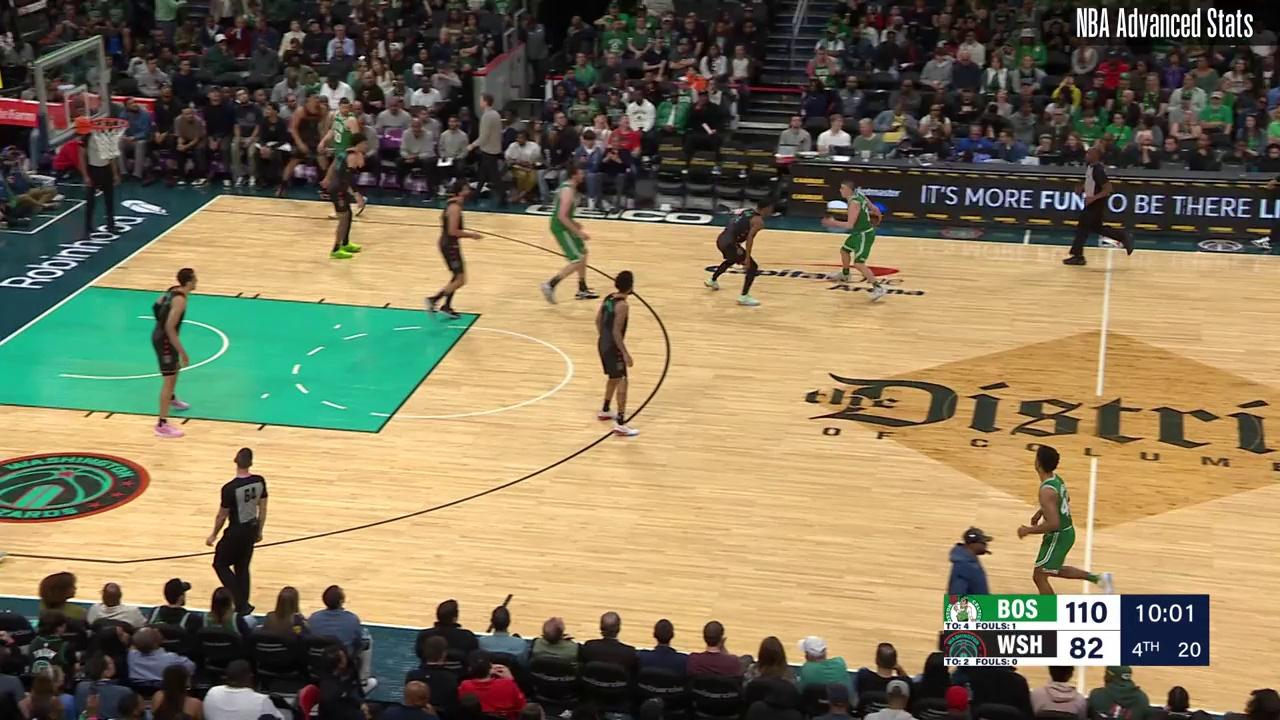3_dx: (194, 207, 202, 214)
b_dx: (216, 193, 223, 199)
free_adx: (475, 311, 483, 319)
free_asx: (373, 428, 382, 437)
free_bdx: (82, 282, 91, 291)
half_dx: (1102, 240, 1117, 259)
mid_sx: (505, 590, 514, 598)
referee: (203, 447, 269, 613), (1065, 148, 1134, 271), (75, 122, 122, 241)
team: (1018, 445, 1113, 595), (541, 165, 598, 305), (824, 180, 887, 305), (320, 96, 370, 219)
team1: (151, 266, 200, 438), (423, 179, 483, 318), (596, 270, 642, 438), (703, 197, 773, 306), (330, 132, 367, 261)
timer: (1133, 591, 1197, 626)
